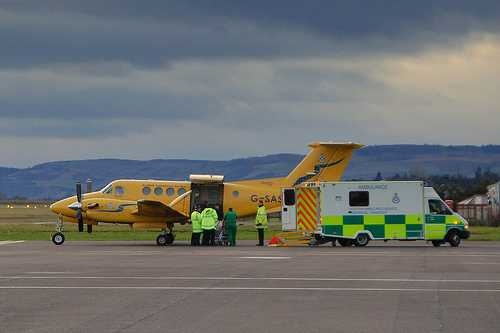Ambulance: (270, 179, 470, 256)
